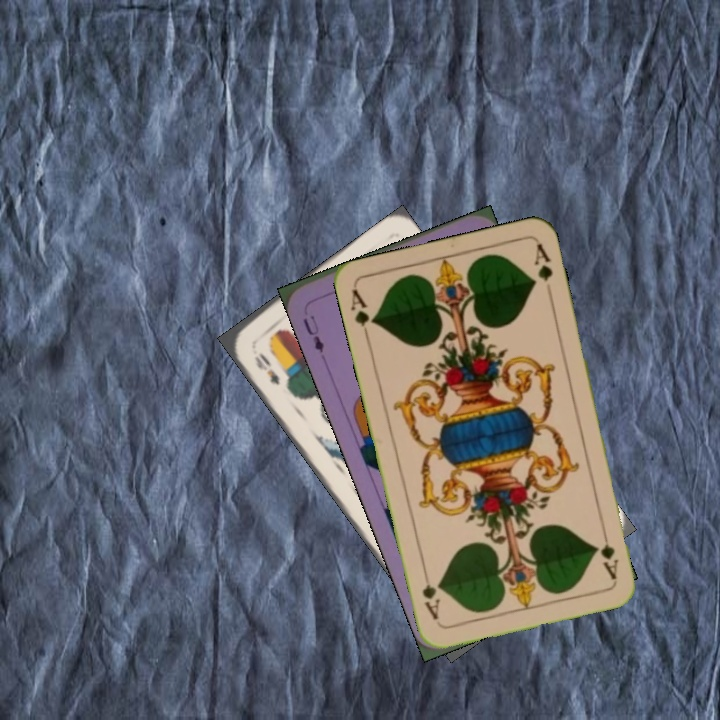EO: (250, 348, 283, 388)
EU: (299, 311, 327, 356)
GA: (347, 285, 379, 343), (596, 523, 621, 582)
